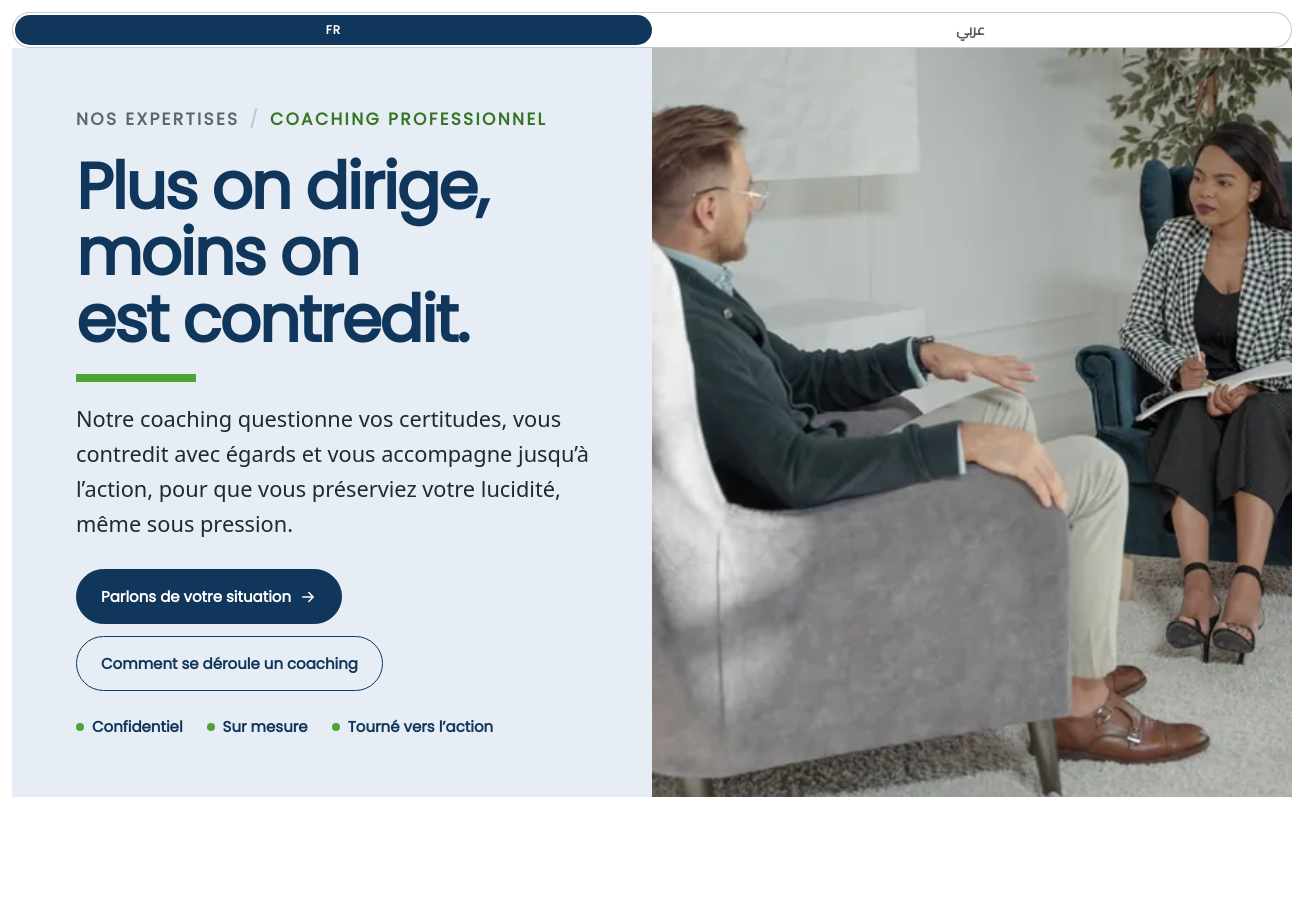
Scenario: Page « Coaching professionnel » › passe en arabe
Click the button "عربي" at (970, 30), box [652, 15, 1289, 45]
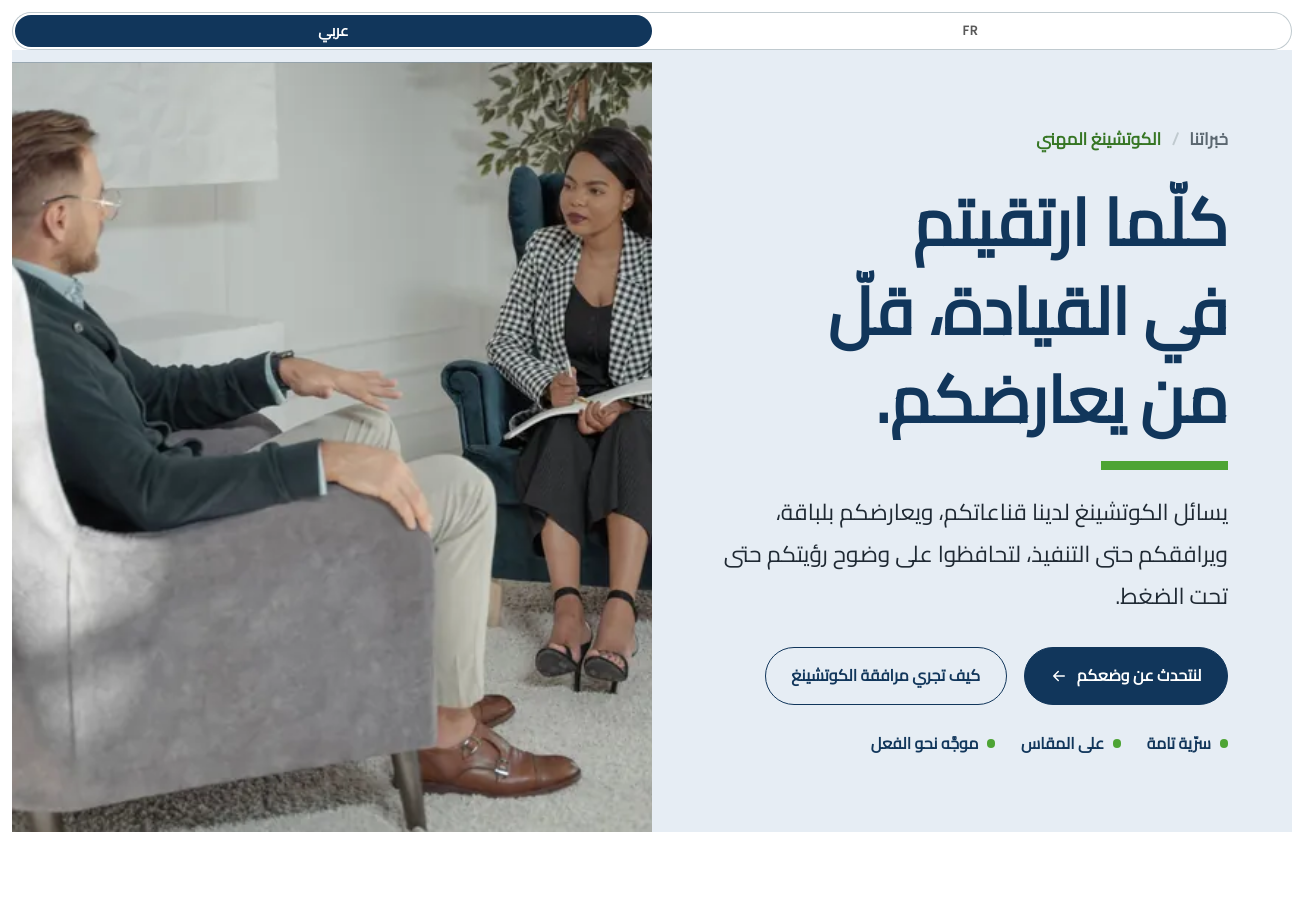
Now the heading reads "كلّما ارتقيتم في القيادة، قلّ من يعارضكم.", box [828, 160, 1228, 460]
